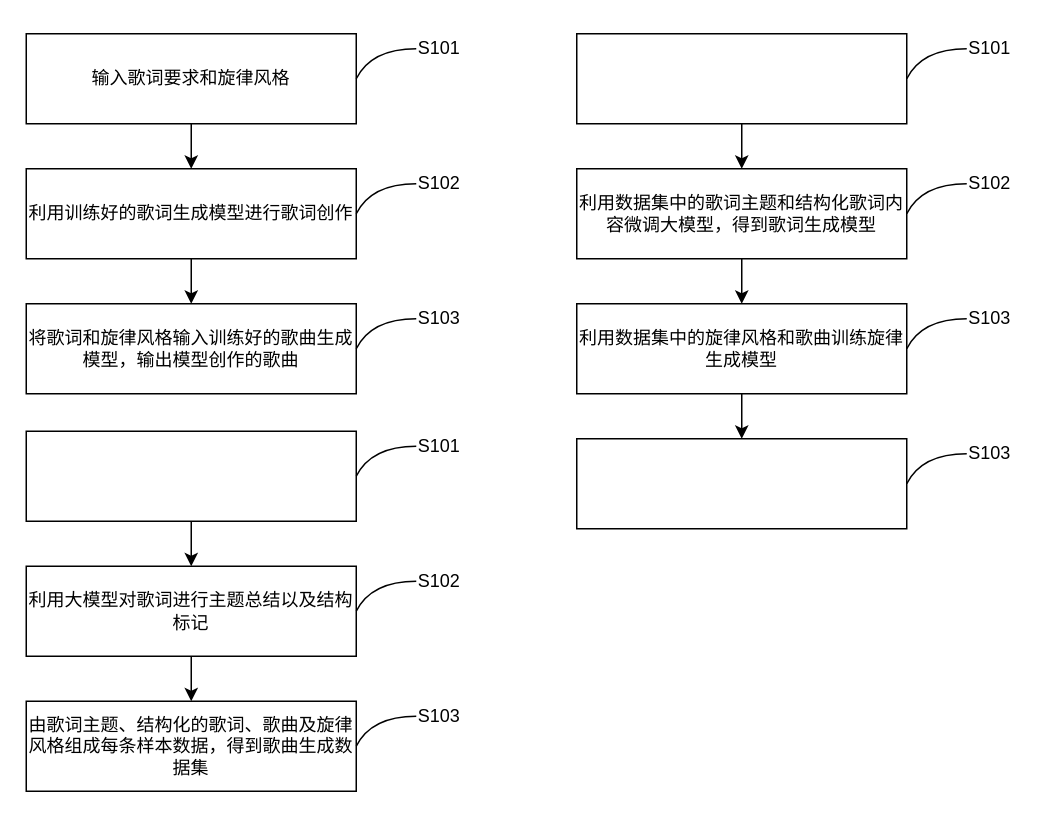
Image size: 1053x818. Some labels were removed from this diagram. Each missing label, with the centre of its shape:
"准备大量歌曲及对应的歌词文件" belongs at (x=190, y=475).
"准备歌曲生成数据集" belongs at (x=741, y=78).
"利用数据集中的结构化歌词和歌曲训练旋律生成模型" belongs at (x=741, y=483).
